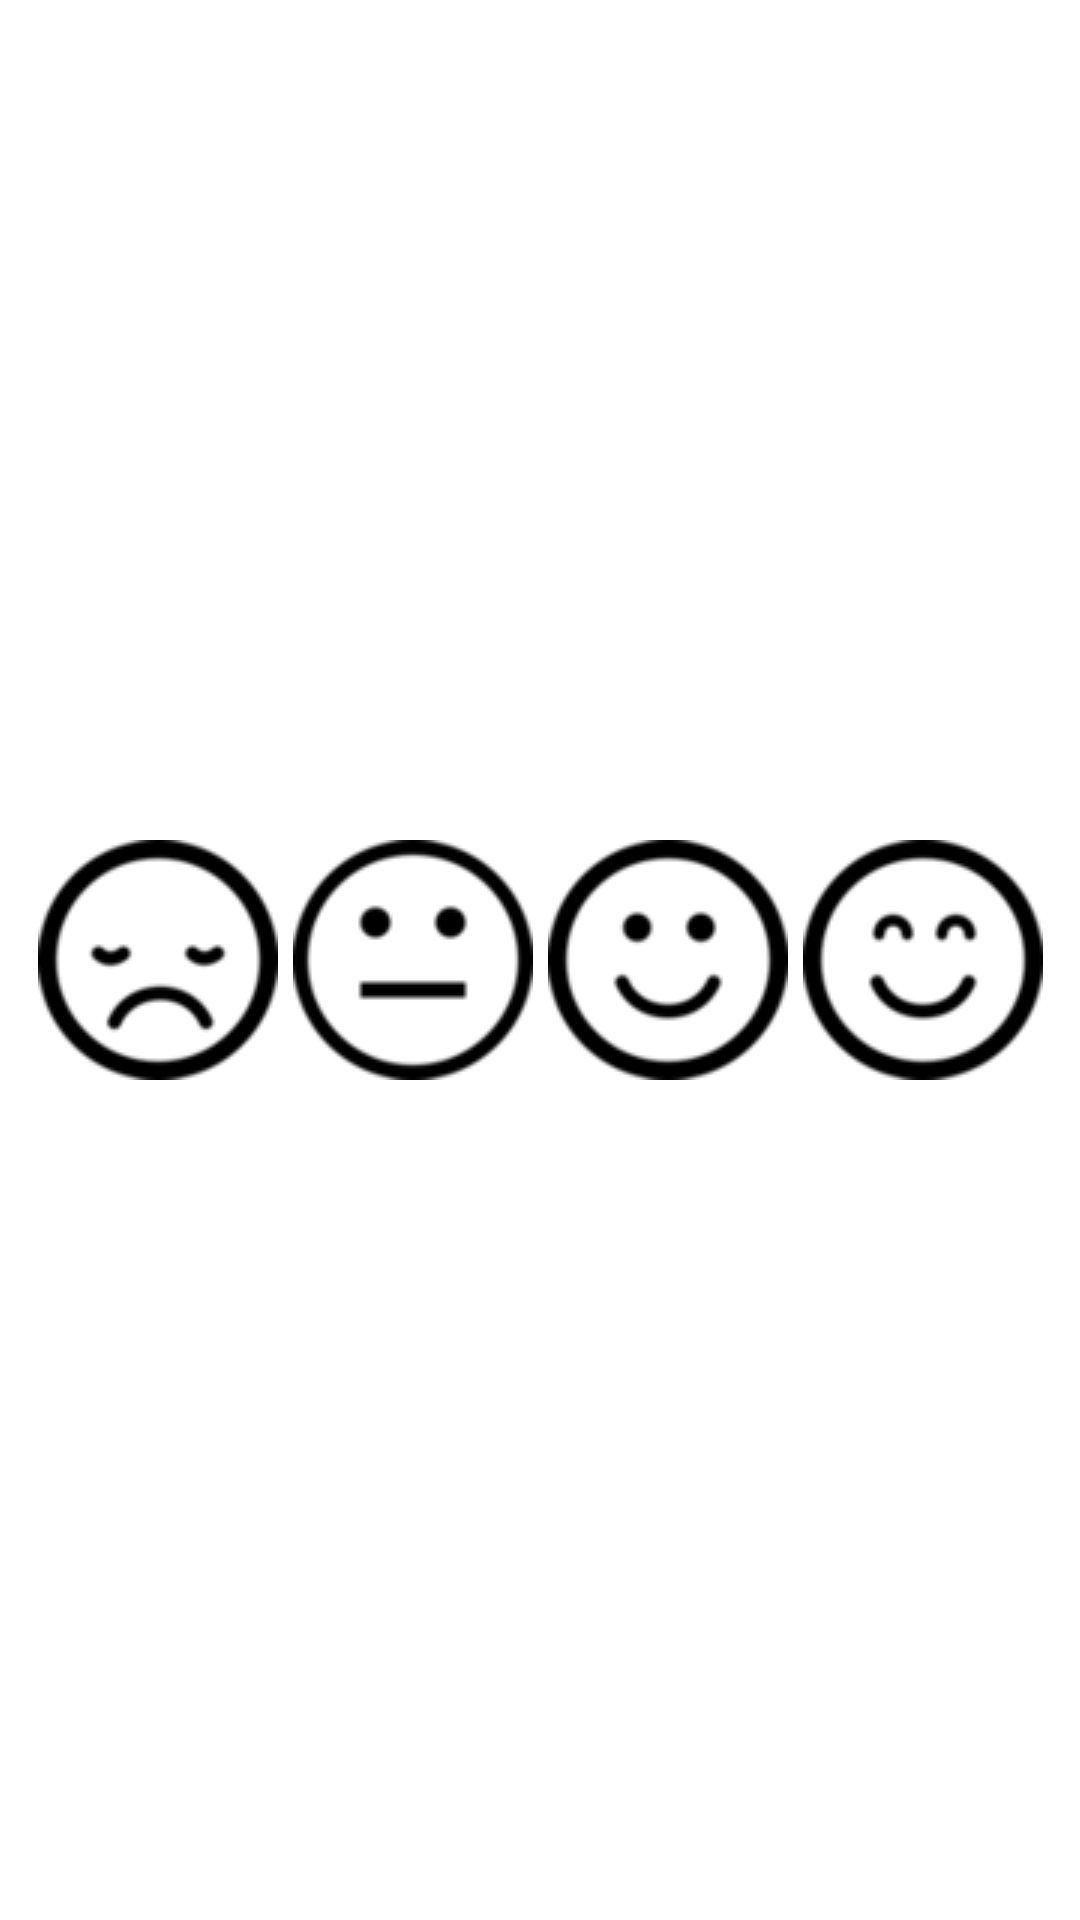

Screen size 1080w x 1920h. Icon name, then its center in pixels as point (x, y):
sad face: point (158, 960)
